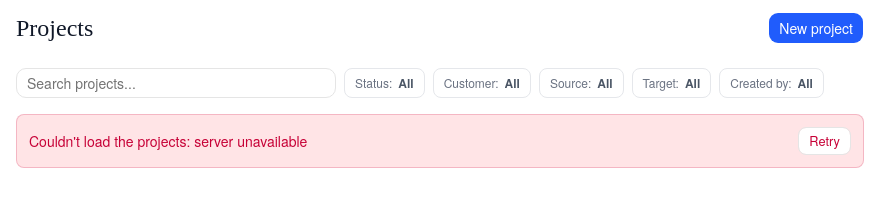
Scenario: ProjectList when the list fails to load › shows the error with a Retry, not "No projects yet"
This screenshot has width=881, height=213.
Expected: the message shows "Couldn't load the projects: server unavailable", [16,114,864,168]
Click the button "Retry" at (825, 141), box [798,127,851,155]
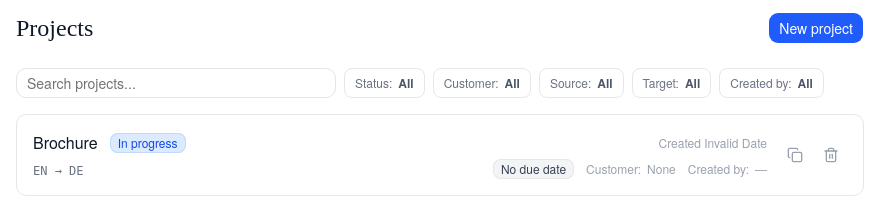
Expected: the link with test id "project-row-5" is shown, [16,114,864,196]
Expected: the message "Couldn't load the projects: server unavailable Retry" is gone
